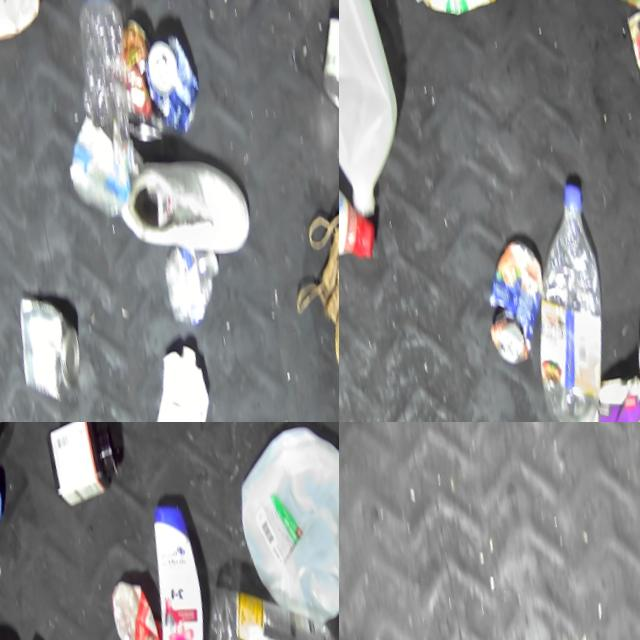can: (477, 233, 570, 371), (12, 290, 104, 422), (136, 15, 220, 144), (306, 0, 339, 122)
milk_jug: (223, 422, 339, 626), (339, 0, 432, 209), (148, 332, 243, 422)
plastic_bottle: (503, 177, 640, 422), (27, 0, 178, 219)
